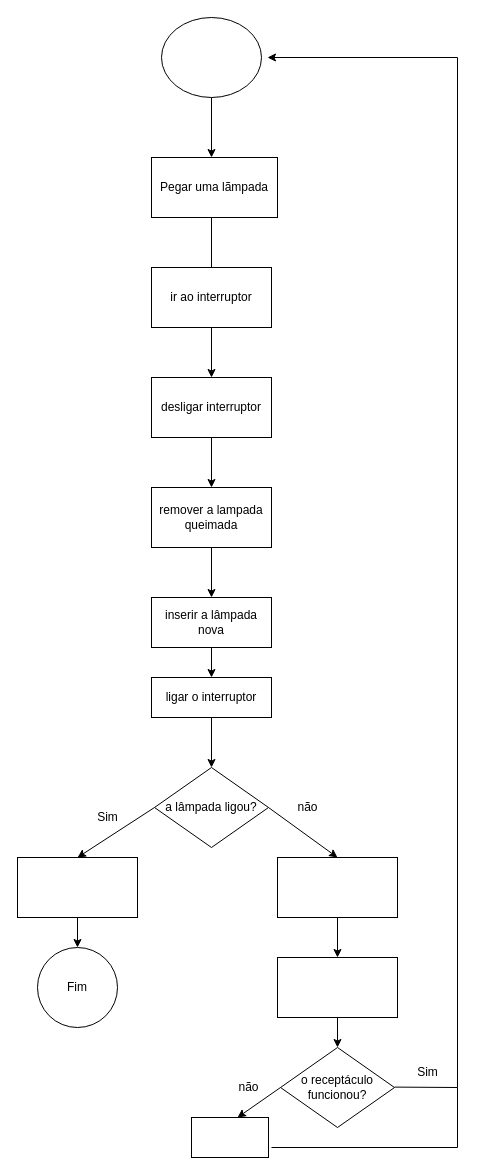
This 483x1175 diagram has some shape labels left out. The centre of each missing label's shape, as x and y in pixels:
checar o receptáculo: pixel 337 987
guardar a lâmpada antiga: pixel 77 887
Início: pixel 211 57
Remover a lâmpada nova: pixel 337 887
Trocar o receptáculo: pixel 229 1137
